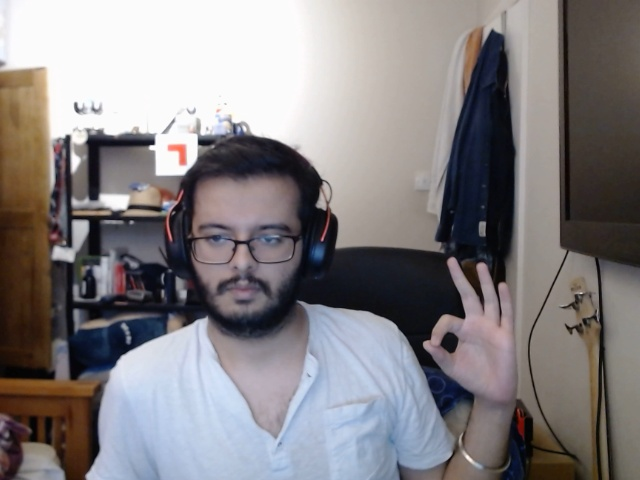Okay: (417, 250, 530, 404)
